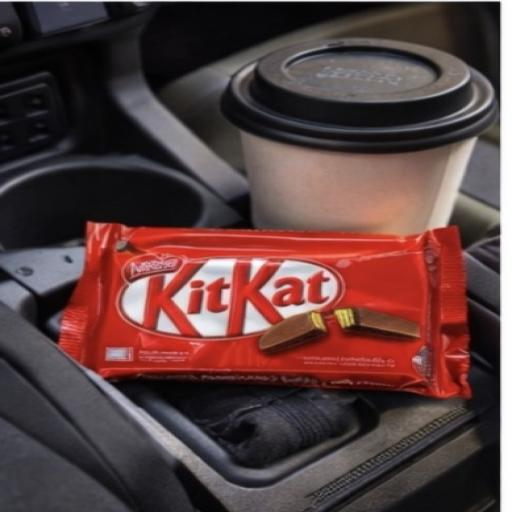kitkat: (19, 170, 495, 440)
